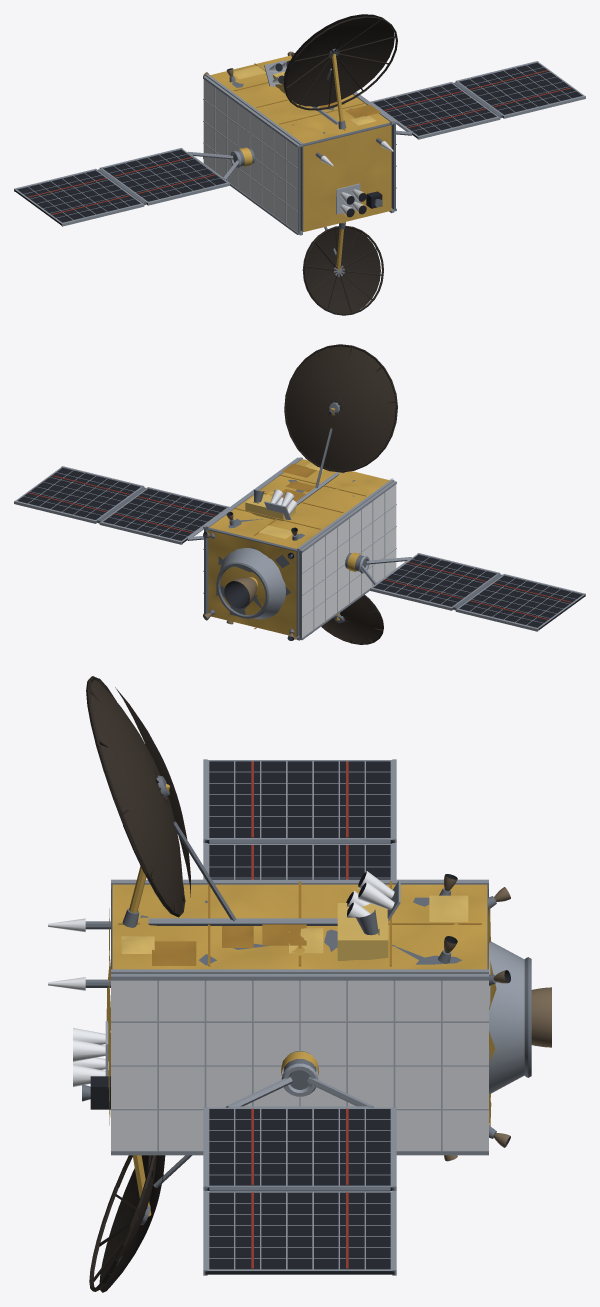
File: bus-i-2k.glb
The picture shows the model from 3 angles, top to bottom: view 1: azimuth 30°, elevation 25°; view 2: azimuth 150°, elevation 25°; view 3: azimuth 270°, elevation 25°; orthographic projection. The views are drawn at different scales.
Visible parts, largest first — view 1: body, solar-panel, foil; view 2: body, solar-panel, foil; view 3: body, solar-panel, foil.
Boxes of the visible parts, x1,y1,x2,y2 form: body: (14, 14, 585, 315); solar-panel: (17, 62, 582, 222); foil: (210, 54, 391, 270); body: (14, 344, 585, 644); solar-panel: (17, 467, 582, 627); foil: (208, 408, 389, 637); body: (48, 676, 551, 1292); solar-panel: (209, 761, 390, 1269); foil: (106, 784, 496, 1216).
Size of the model in its own units: 9.59 by 5.22 by 4.
